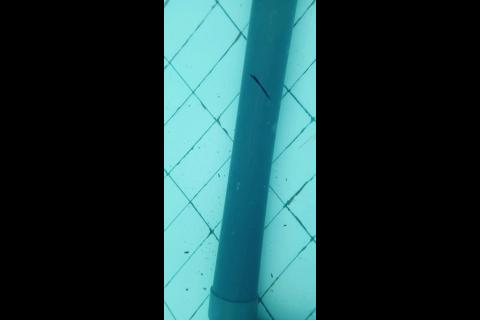keretakan: (248, 73, 271, 101)
